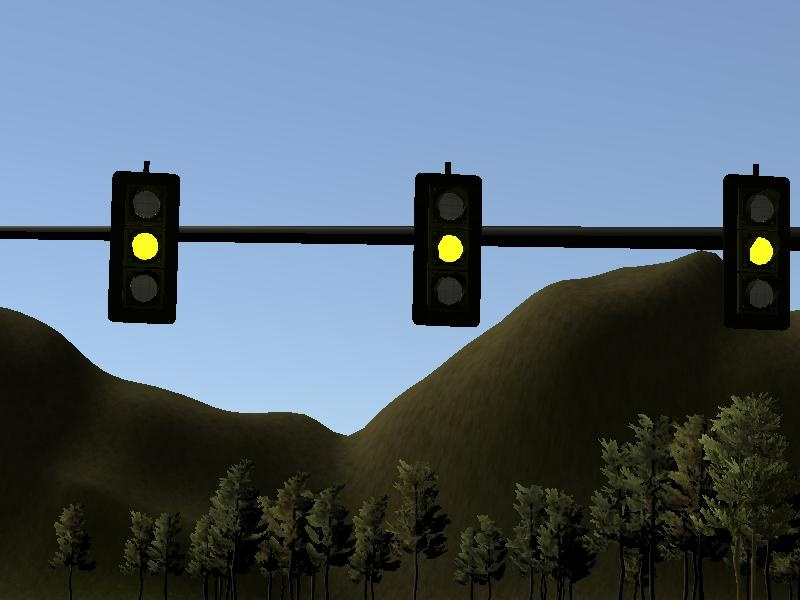yellow: (98, 155, 186, 332), (717, 164, 798, 340), (405, 162, 486, 333)
